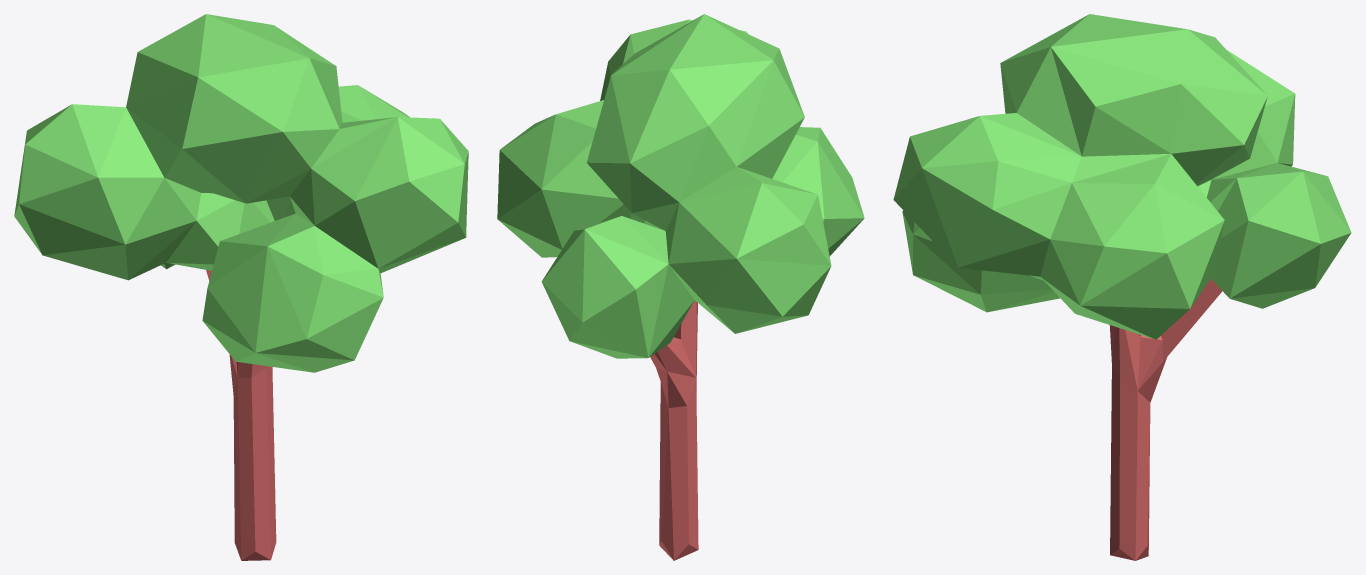
The model's file is tree_10.fbx.
The picture shows the model from 3 angles, left to right: view 1: azimuth 30°, elevation 25°; view 2: azimuth 150°, elevation 25°; view 3: azimuth 270°, elevation 25°; orthographic projection. The views are drawn at different scales.
Visible parts, largest first — view 1: Plane.013; view 2: Plane.013; view 3: Plane.013.
Part boxes in pixels (x1,y1,x2,y2): Plane.013: (14, 14, 468, 560); Plane.013: (497, 14, 864, 560); Plane.013: (893, 14, 1351, 560).
Bounding box in the file's own units: 838 × 1155 × 923.
